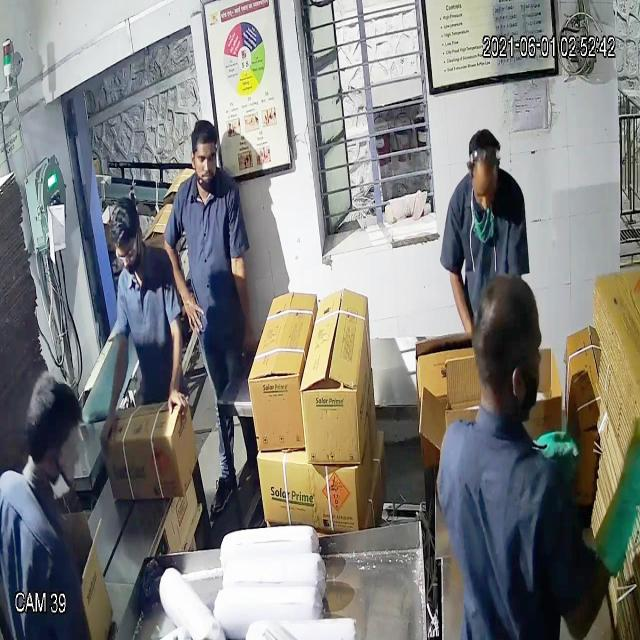glasses: (111, 232, 146, 270)
no-glass: (188, 142, 222, 176)
